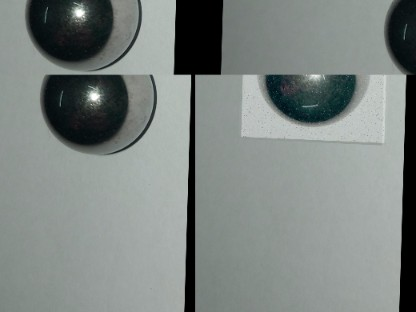ironball: (36, 73, 154, 158), (241, 74, 387, 139), (23, 0, 140, 72), (380, 0, 414, 71)
